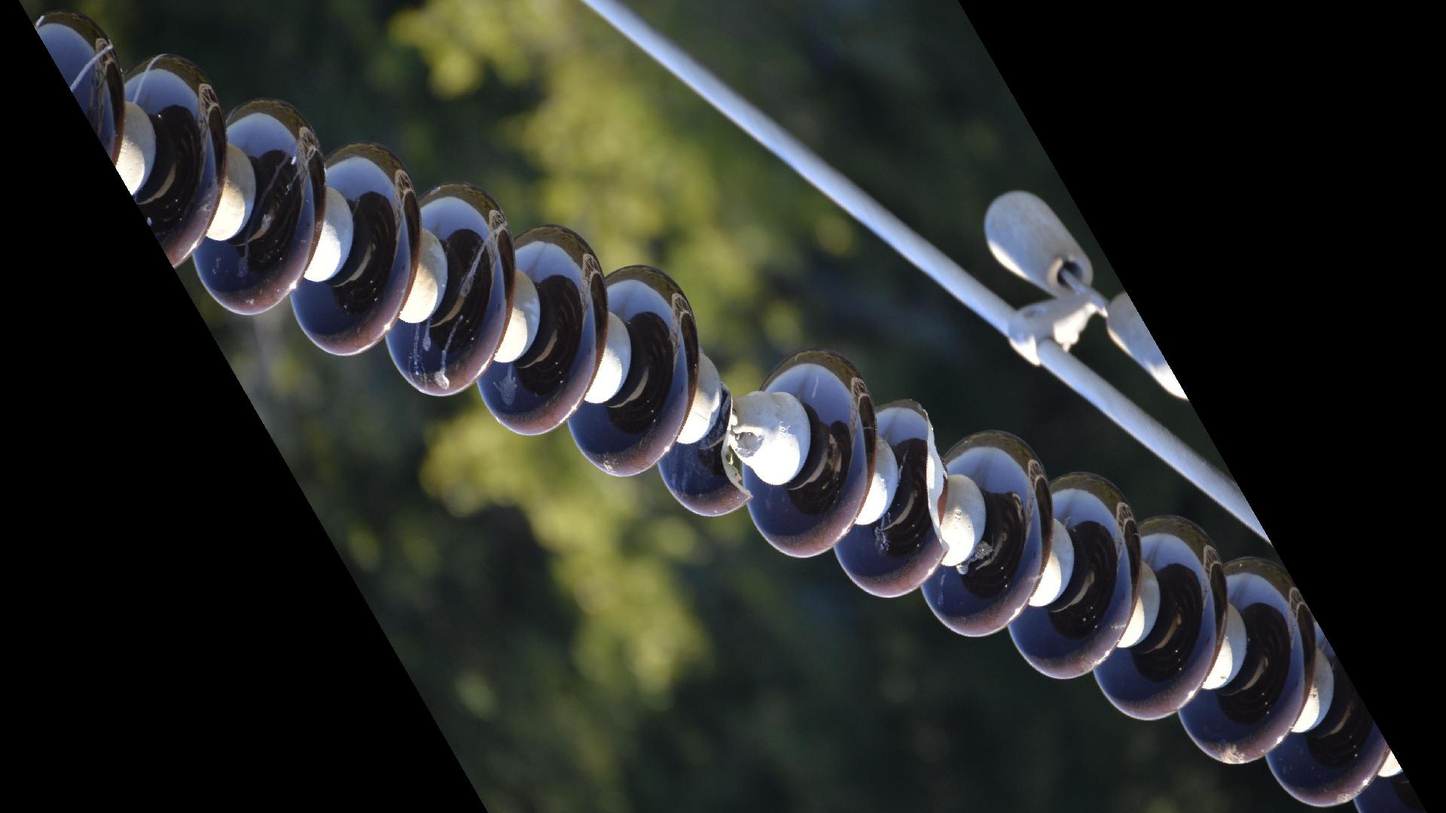insulator: (32, 1, 1387, 813)
insulator_breakage: (904, 388, 958, 565), (712, 378, 763, 515)
